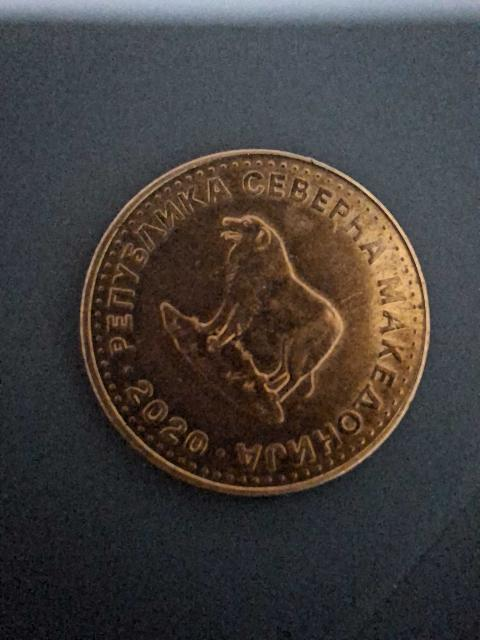1_coin: (81, 150, 429, 495)
